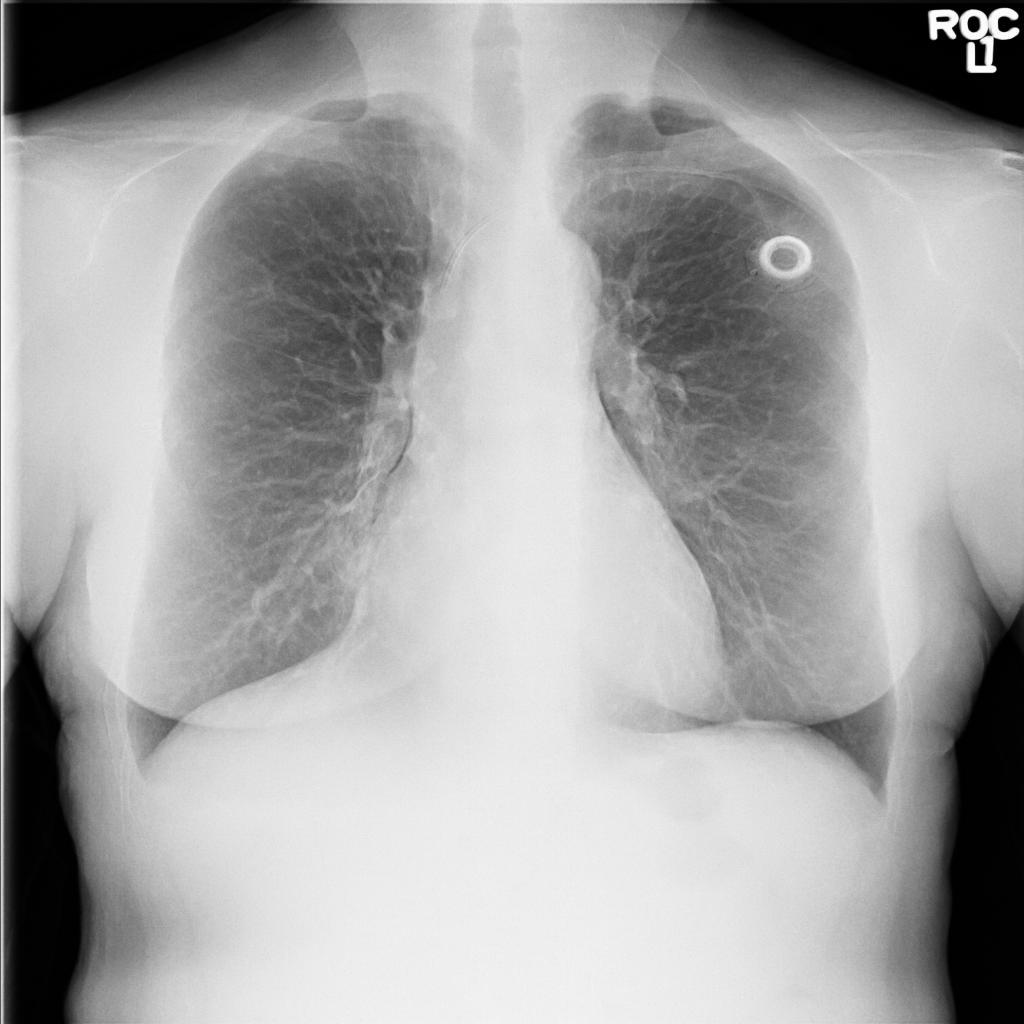Nodule: (183, 262, 231, 293), (338, 99, 374, 123)
